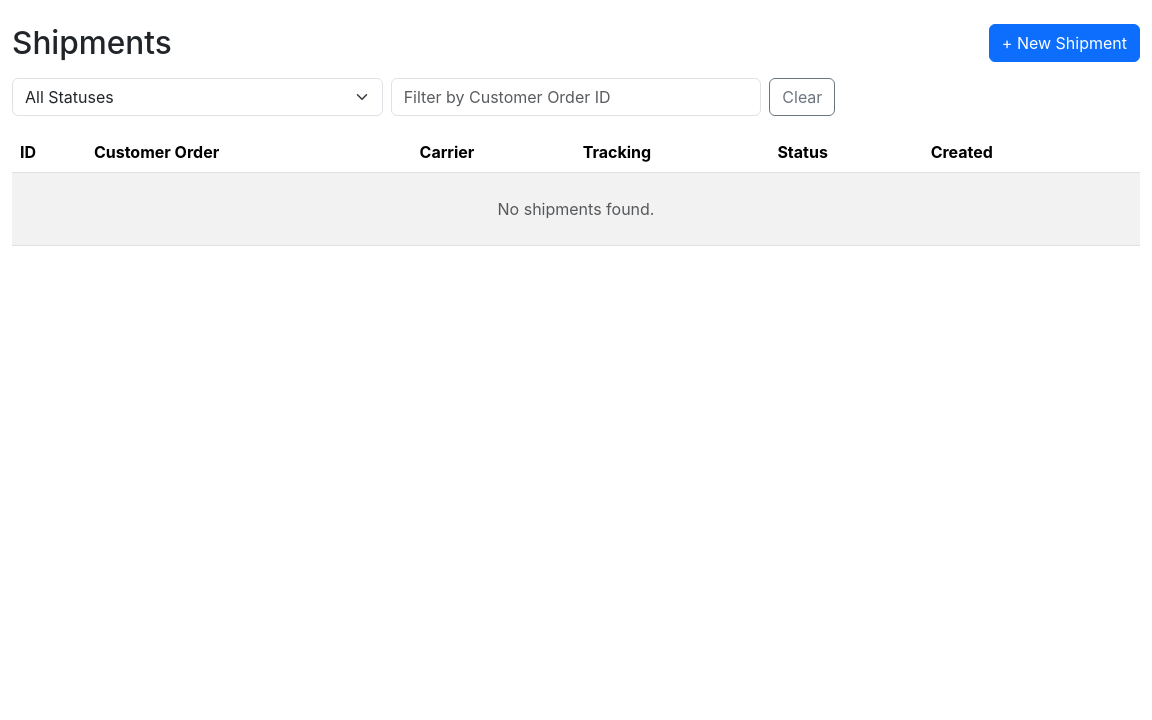
Test: ShipmentsPage › opens create modal on button click
Expected: the text "No shipments found." is shown, [12,172,1140,246]
Click the button "+ New Shipment".
click(1064, 43)  # box [989,24,1140,62]
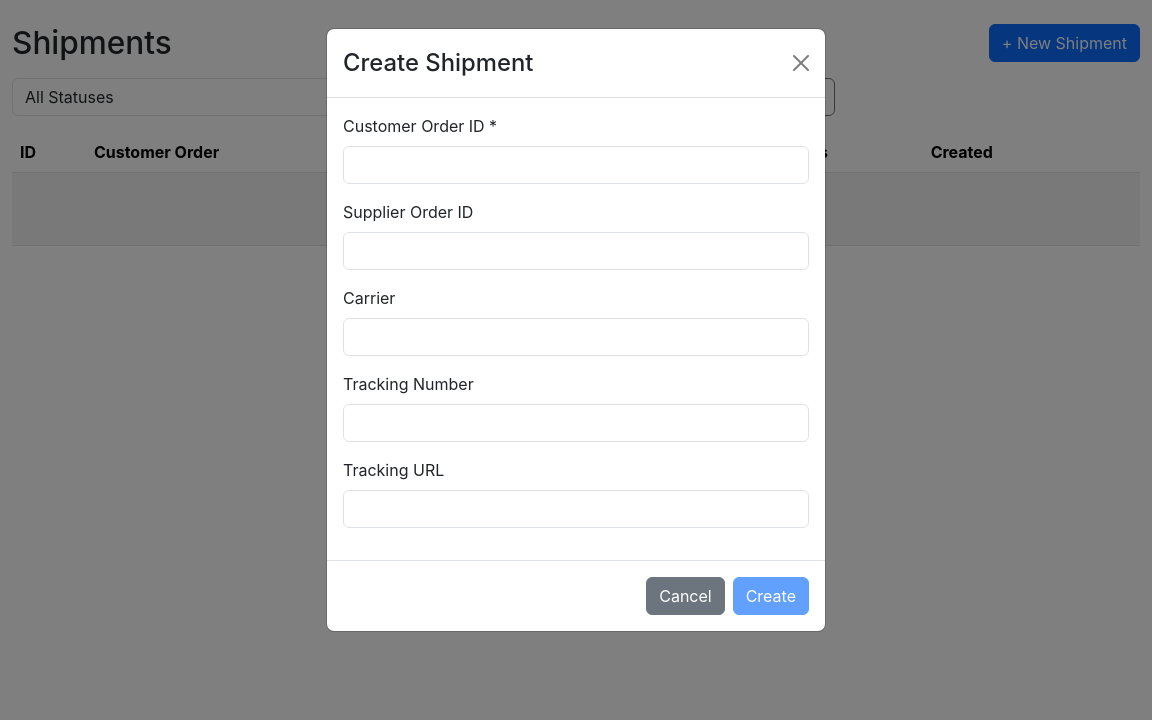
Expected: the text "Create Shipment" is shown, [343,45,533,81]
